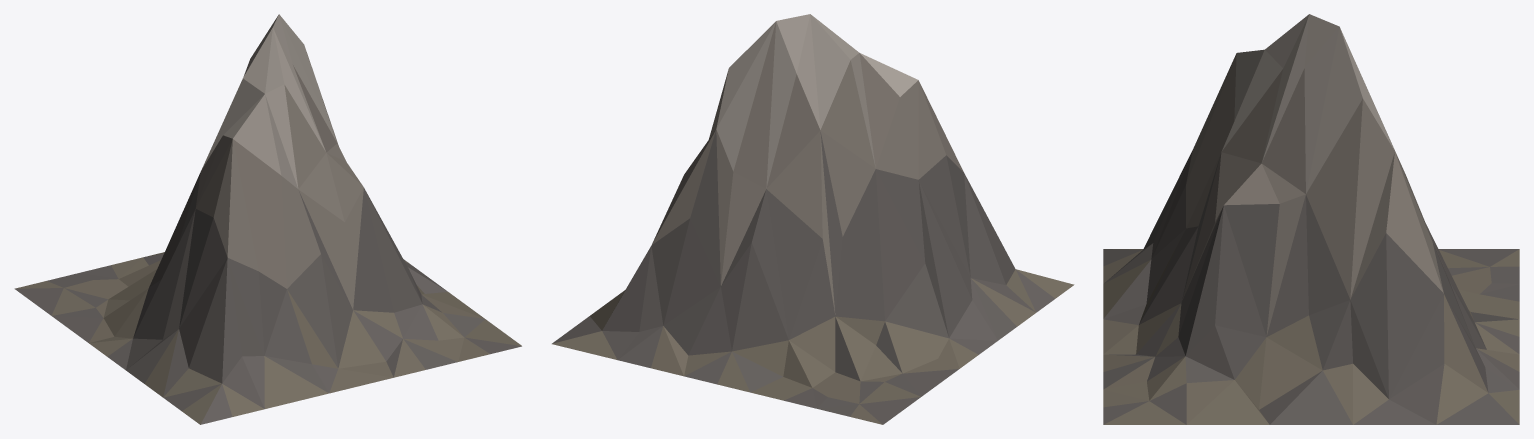
Rendered from mountain_c.obj.
3 views of the same model, side by side, from view 1: azimuth 30°, elevation 25°; view 2: azimuth 150°, elevation 25°; view 3: azimuth 270°, elevation 25° (orthographic). The views are drawn at different scales.
Bounding box in the file's own units: 4 × 3.44 × 4.
